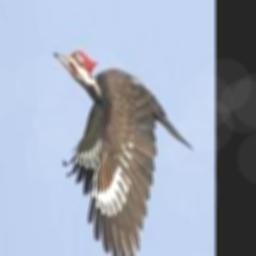Woodpecker: (54, 49, 193, 256)
